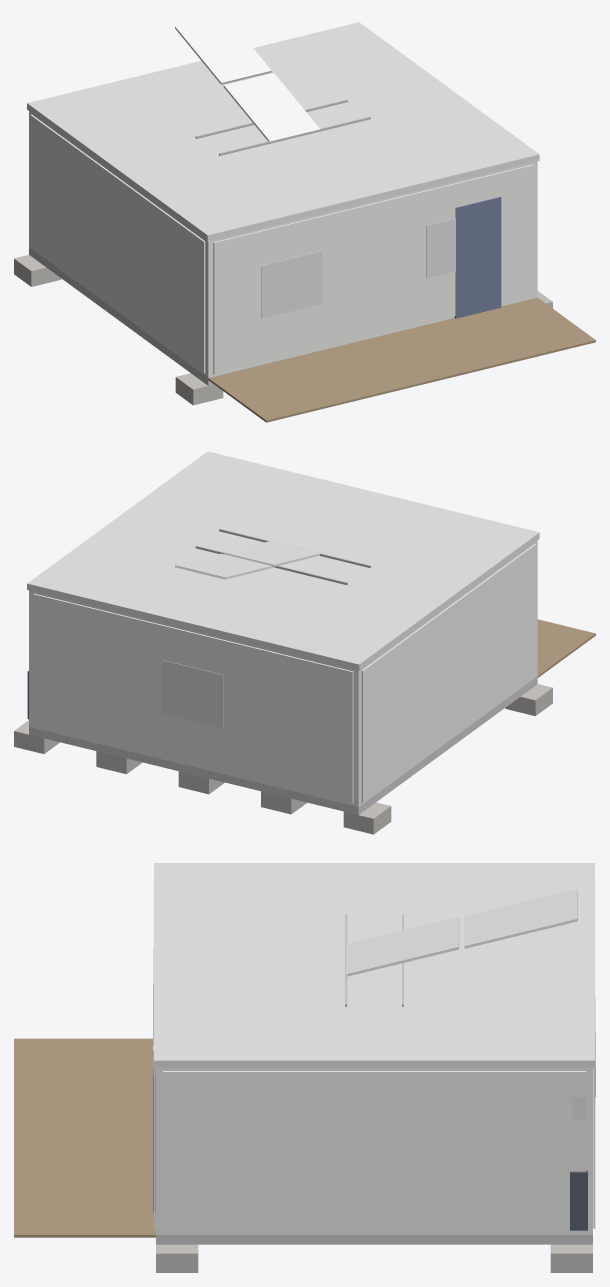
The model's file is Studio-20-FullSolar+TerraceDeck-LOD1.glb.
3 views of the same model, one above another, from view 1: azimuth 30°, elevation 25°; view 2: azimuth 150°, elevation 25°; view 3: azimuth 270°, elevation 25° (orthographic). The views are drawn at different scales.
Parts seen in each view (by area): view 1: ExteriorPanelsStandard, RoofMain, TerraceDeck, SolarPanelArray, EntryDoor, WindowsStandard, ExteriorShell, FoundationBlocks, BaseFrame, SolarMountingHardware; view 2: ExteriorPanelsStandard, RoofMain, FoundationBlocks, ExteriorShell, BaseFrame, WindowsStandard, SolarPanelArray, TerraceDeck, SolarMountingHardware; view 3: RoofMain, ExteriorPanelsStandard, TerraceDeck, SolarPanelArray, ExteriorShell, BaseFrame, FoundationBlocks, SolarBattery.
Part boxes in pixels (<box>): ExteriorPanelsStandard: <box>30,114,533,374</box>; RoofMain: <box>27,22,539,241</box>; TerraceDeck: <box>208,297,595,422</box>; SolarPanelArray: <box>175,14,319,141</box>; EntryDoor: <box>454,197,501,318</box>; WindowsStandard: <box>261,218,455,318</box>; ExteriorShell: <box>29,111,537,377</box>; FoundationBlocks: <box>14,255,552,405</box>; BaseFrame: <box>29,247,213,385</box>; SolarMountingHardware: <box>195,99,370,155</box>; ExteriorPanelsStandard: <box>33,544,536,803</box>; RoofMain: <box>27,451,539,670</box>; FoundationBlocks: <box>14,684,552,834</box>; ExteriorShell: <box>29,540,537,806</box>; BaseFrame: <box>29,676,537,814</box>; WindowsStandard: <box>162,660,223,727</box>; SolarPanelArray: <box>175,541,319,579</box>; TerraceDeck: <box>537,619,595,677</box>; SolarMountingHardware: <box>195,528,370,584</box>; RoofMain: <box>154,863,594,1068</box>; ExteriorPanelsStandard: <box>153,878,595,1232</box>; TerraceDeck: <box>14,1038,155,1237</box>; SolarPanelArray: <box>346,889,577,976</box>; ExteriorShell: <box>156,1068,592,1234</box>; BaseFrame: <box>156,1235,592,1244</box>; FoundationBlocks: <box>156,1244,592,1272</box>; SolarBattery: <box>570,1170,587,1230</box>.
Bounding box in the file's own units: 7.14 × 4.07 × 8.2.
